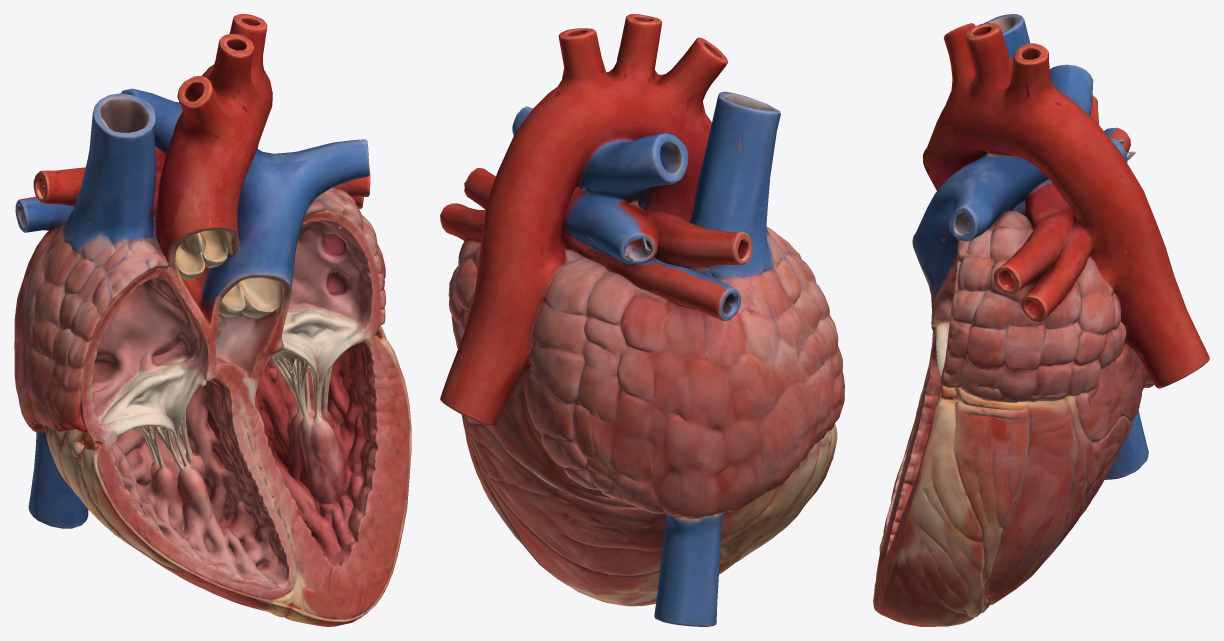
Rendered from heart-cut.glb.
3 renders of one model, left to right at view 1: azimuth 30°, elevation 25°; view 2: azimuth 150°, elevation 25°; view 3: azimuth 270°, elevation 25°, orthographic. The views are drawn at different scales.
Bounding box in the file's own units: 0.2727 × 0.4288 × 0.2313.
Materials: 1 (1 with a texture image).
